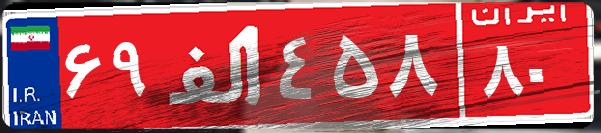0: (525, 38, 570, 115)
4: (273, 28, 330, 110)
5: (330, 28, 385, 110)
6: (57, 26, 110, 107)
8: (385, 28, 445, 110), (475, 38, 525, 113)
9: (110, 28, 158, 105)
الف: (158, 15, 273, 115)
